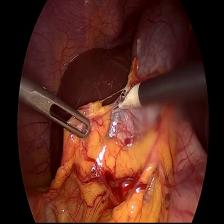Grasper: (23, 86, 92, 140)
Hook: (115, 83, 143, 115)
